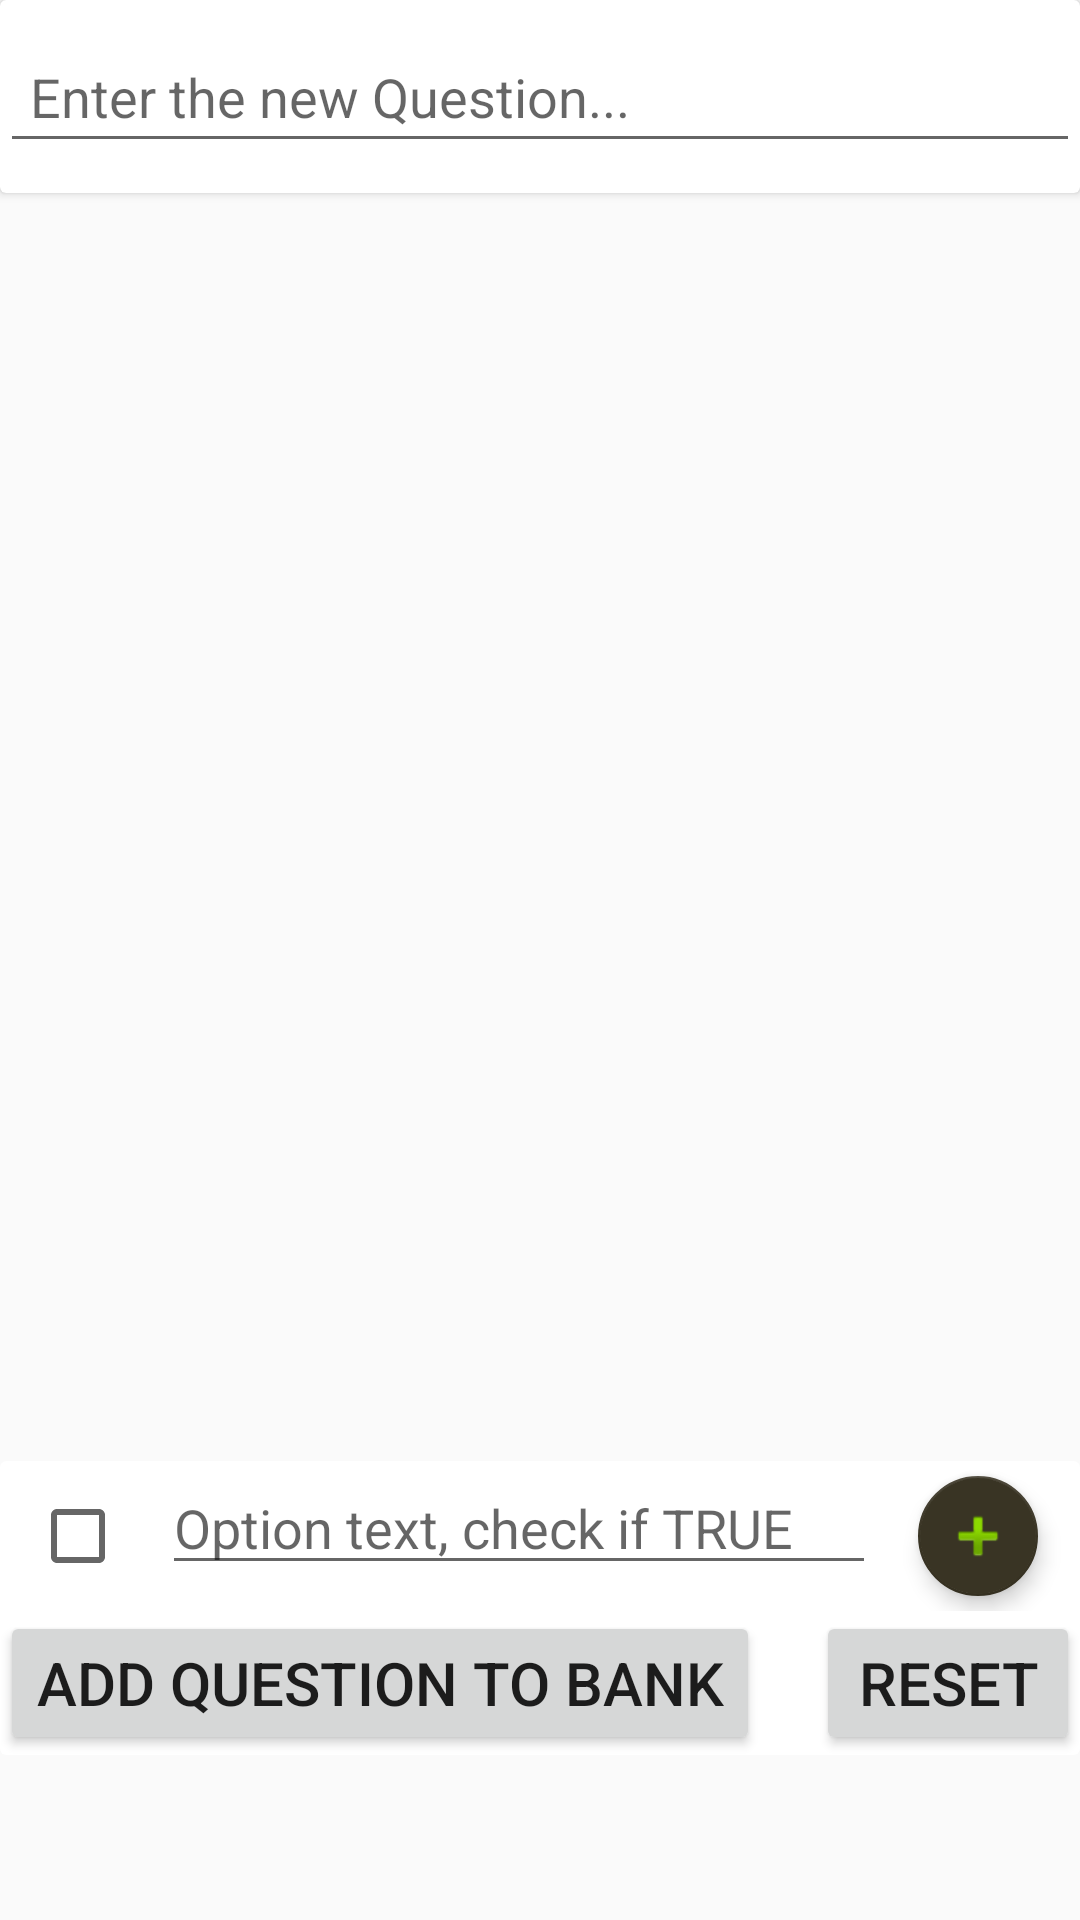

Named icons in this screenshot (1080x1920) and their bounding boxes, (left=x1, top=y1, right=x2, bottom=y2):
add: (left=918, top=1476, right=1038, bottom=1596)
